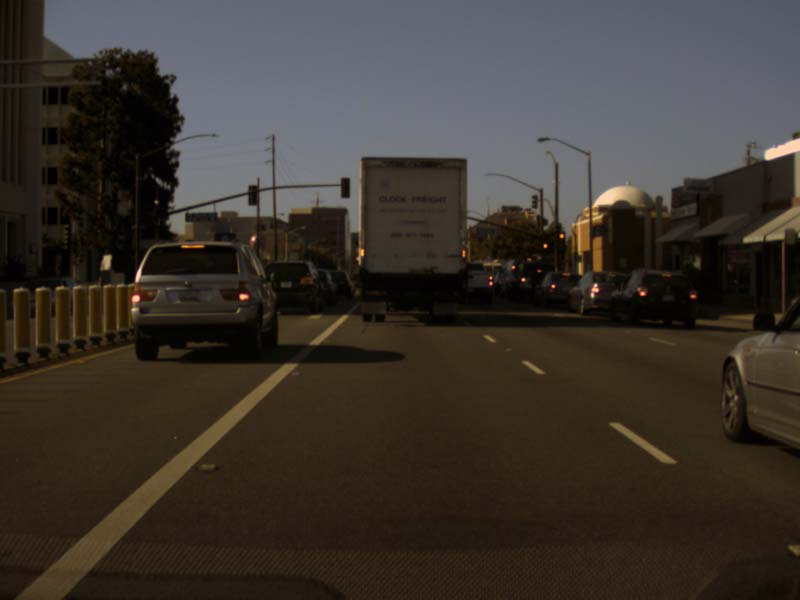Red: (557, 233, 564, 252), (541, 242, 547, 258)
